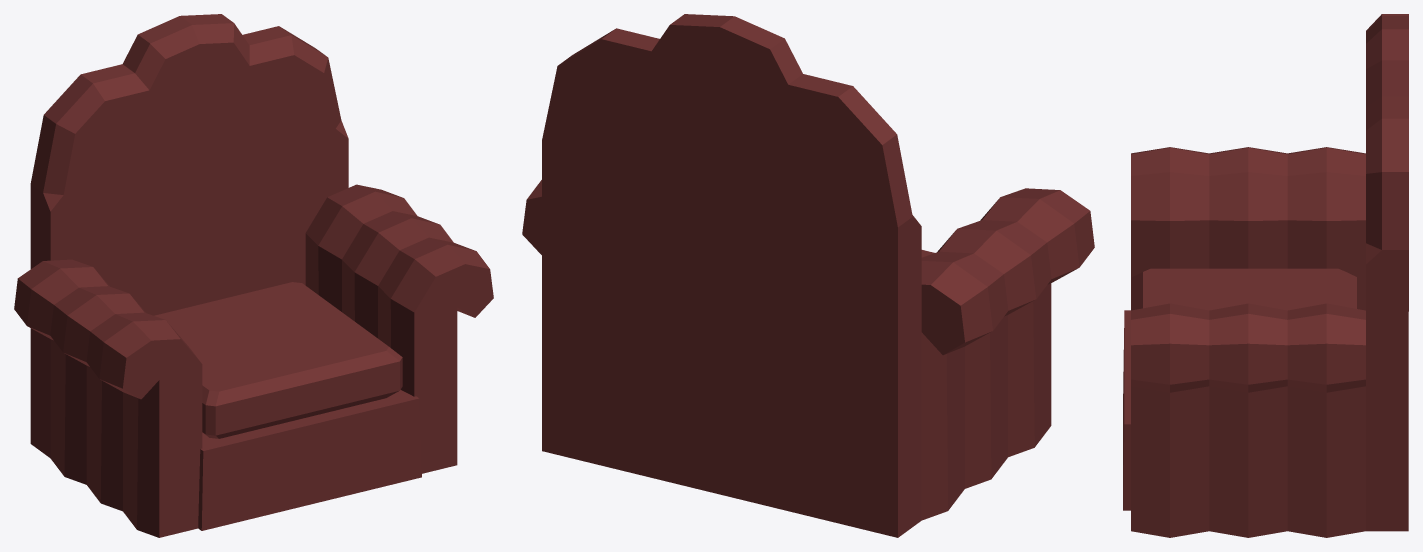
The model's file is LPHorror_ArmChair.fbx.
3 renders of one model, left to right at view 1: azimuth 30°, elevation 25°; view 2: azimuth 150°, elevation 25°; view 3: azimuth 270°, elevation 25°, orthographic. The views are drawn at different scales.
Parts seen in each view (by area): view 1: ArmChair; view 2: ArmChair; view 3: ArmChair.
Part boxes in pixels (left/top/right/bottom): ArmChair: left=14, top=14, right=493, bottom=537; ArmChair: left=522, top=14, right=1094, bottom=537; ArmChair: left=1123, top=14, right=1408, bottom=537.
Bounding box in the file's own units: 200 × 199 × 120.
